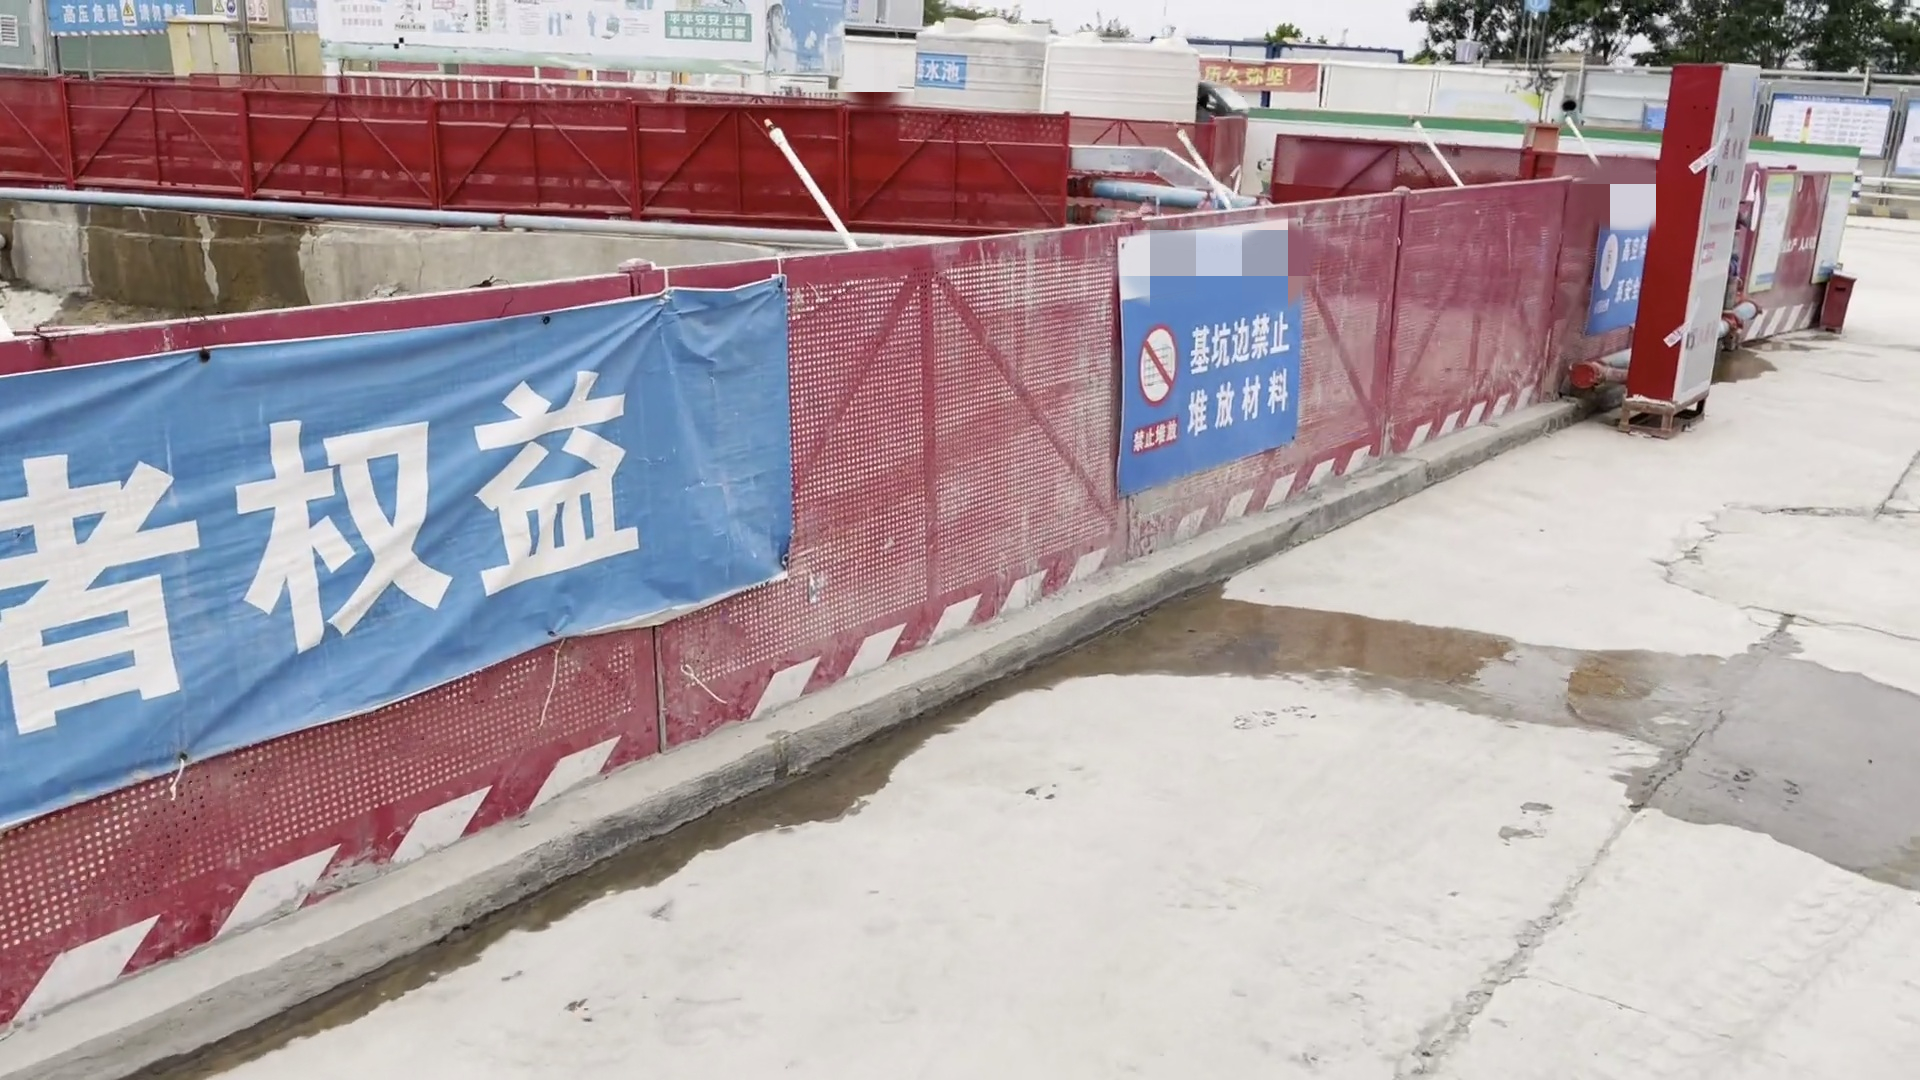fence: (1, 171, 1568, 1080)
slogan: (1, 272, 800, 839), (1112, 223, 1317, 502), (42, 1, 200, 42), (1598, 225, 1646, 332), (1204, 61, 1327, 94)
